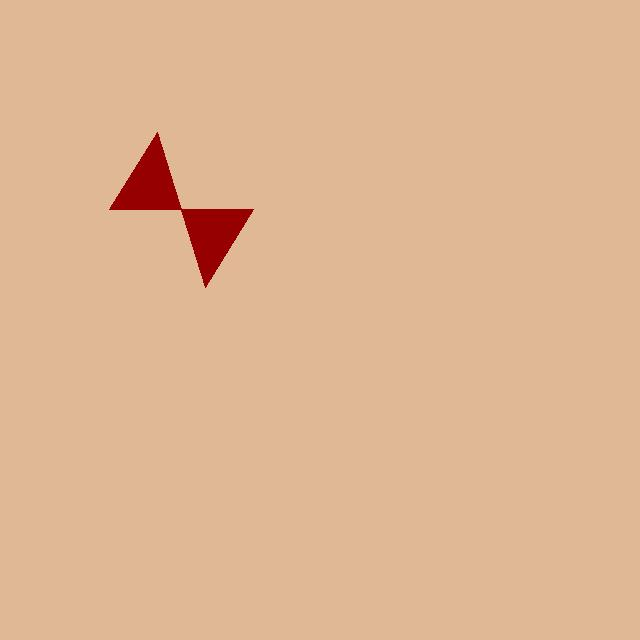laceration: (109, 132, 253, 287)
